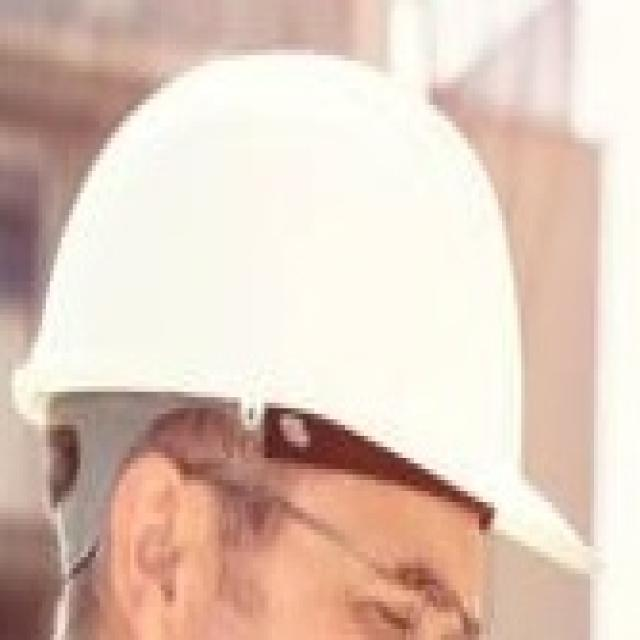safety_helmet: (11, 48, 603, 634)
